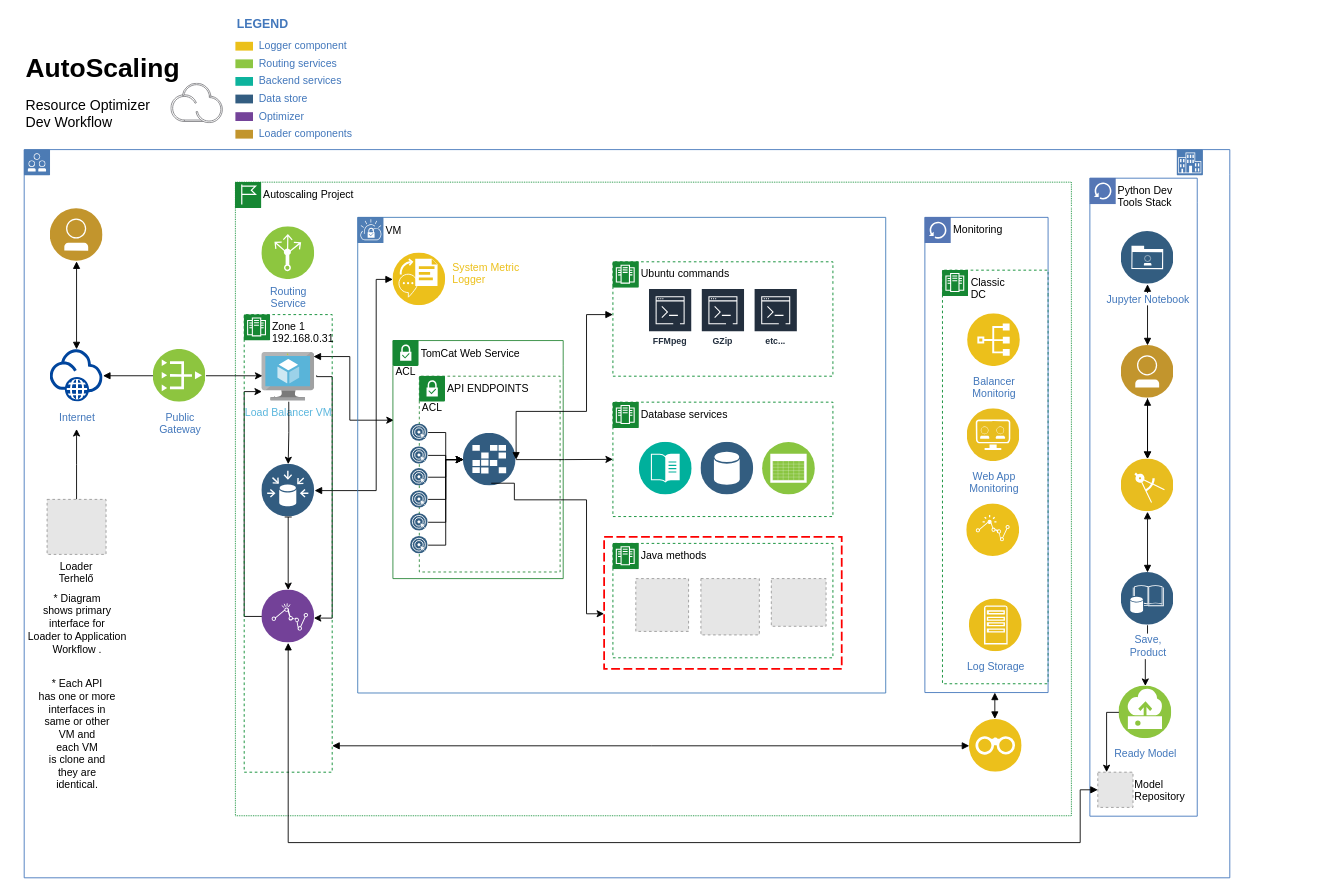
This 1334x893 diagram has some shape labels left out. Grey dashed boxes stand in for pictures. The shapes that lost their labels are listed below. From the top down, each one's centre as x and y in pixels, then its label:
the point at 37,162: Public Network
the point at 1190,162: Analytics and Dev Stack
the point at 76,234: User
the point at 1147,371: Model Analitcs and Dvelop
the point at 489,459: JAVA SPRING WEB SERVICE
the point at 665,468: MongoDB
the point at 726,468: Postgre
the point at 788,468: MySQL
the point at 287,490: METRICS COLLECTOR
the point at 1147,484: Backtest the Model
the point at 992,529: Traffic Monitoring
the point at 287,616: OPTIMIZER APP
the point at 995,745: Visualisation Web UI
